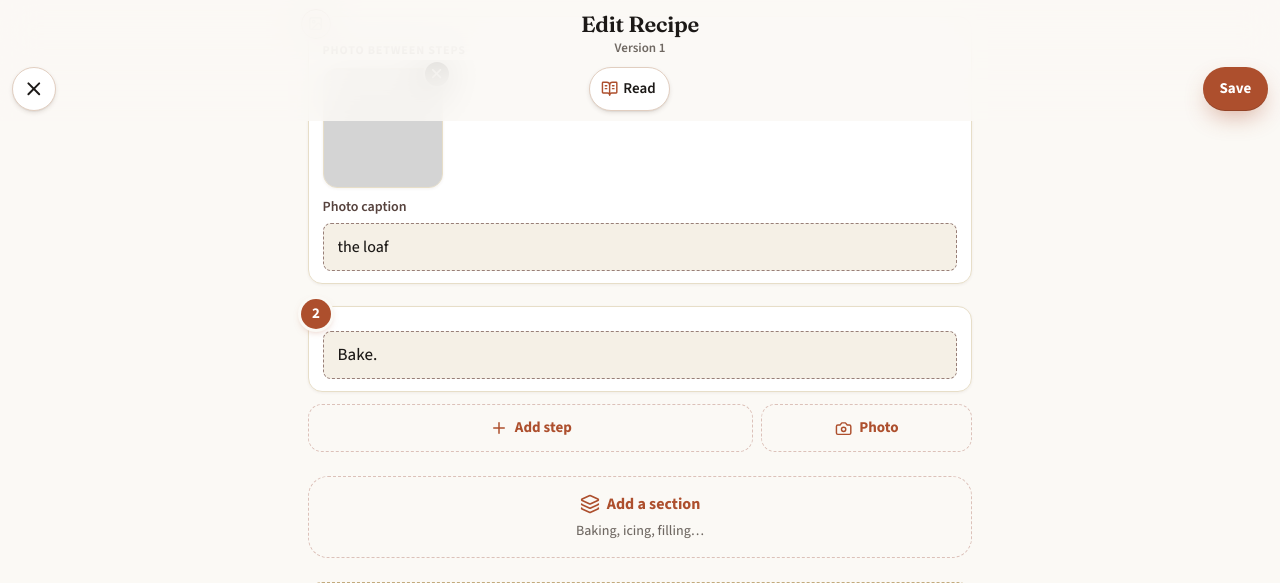
a photo between the steps in the editor › adds one from the Photo key, ready to take or choose
(page scrolled)
Step 1. Click the button with aria-label "Add a photo between the steps" → x=867, y=428, box [761, 404, 972, 452]
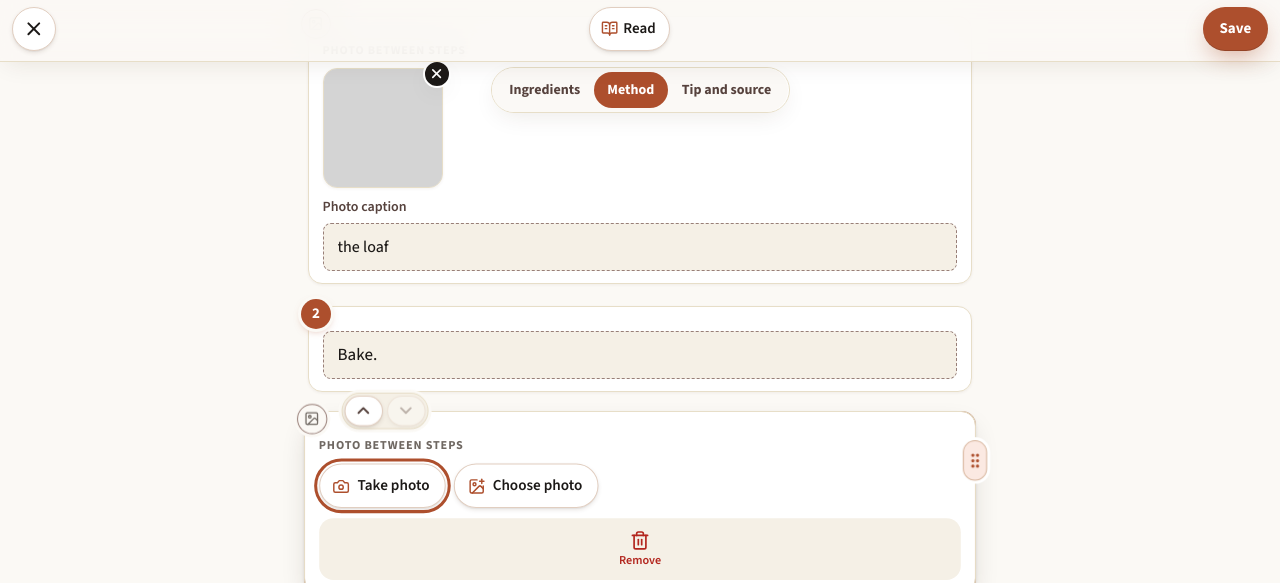
Now the button "Choose photo" is shown, box [454, 464, 599, 508]
